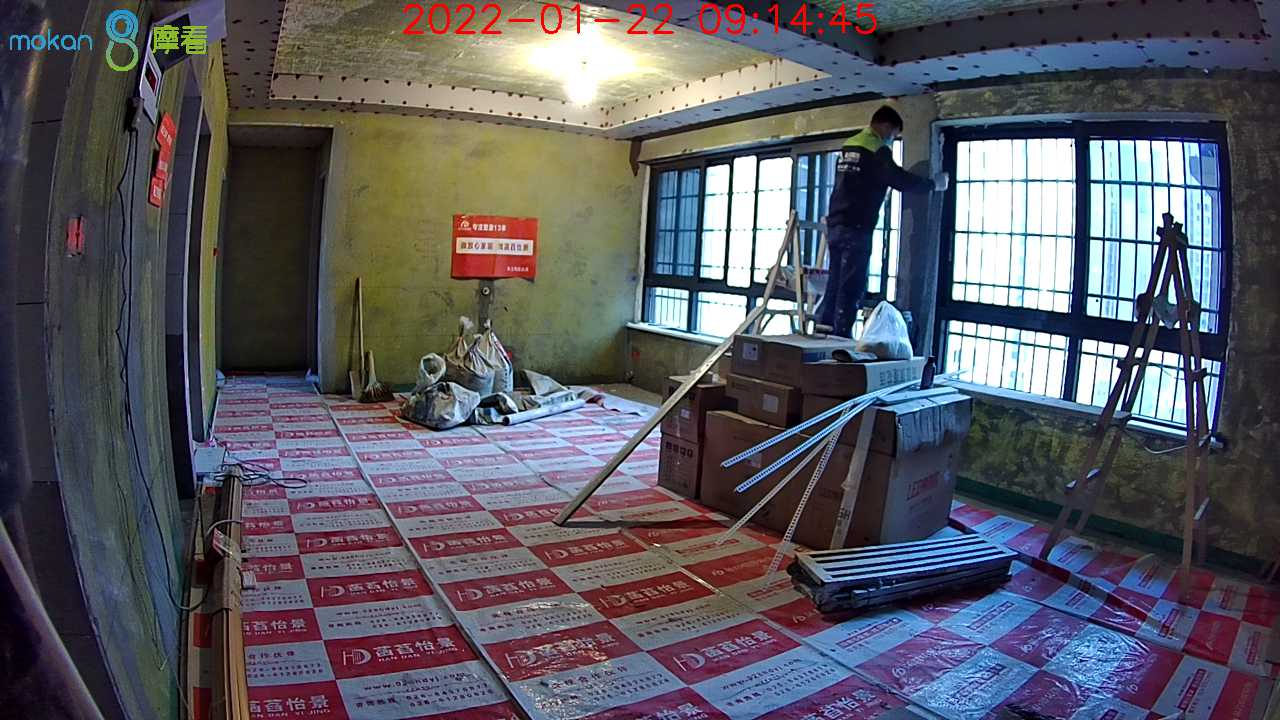people: (819, 104, 911, 337)
window: (939, 132, 1227, 433), (646, 145, 896, 350)
